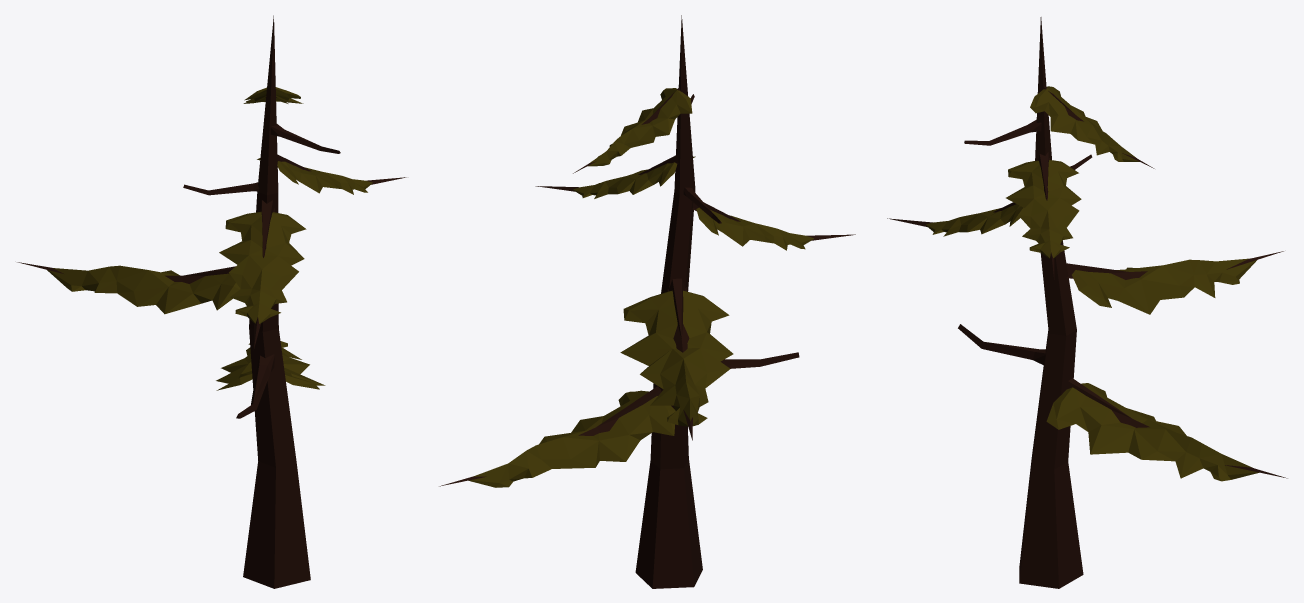
The model's file is FirTree3.fbx.glb.
The picture shows the model from 3 angles, left to right: view 1: azimuth 30°, elevation 25°; view 2: azimuth 150°, elevation 25°; view 3: azimuth 270°, elevation 25°; orthographic projection.
Visible parts, largest first — view 1: FirTree3; view 2: FirTree3; view 3: FirTree3.
Boxes of the visible parts, left/top/right/bottom form: FirTree3: left=17, top=15, right=406, bottom=588; FirTree3: left=439, top=15, right=855, bottom=588; FirTree3: left=887, top=17, right=1287, bottom=588.
Size of the model in its own units: 190 by 370 by 243.
